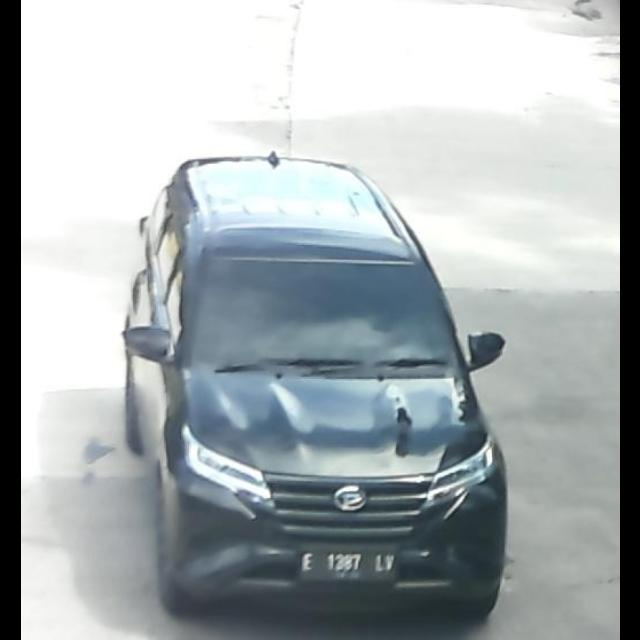plate: (298, 550, 402, 582)
